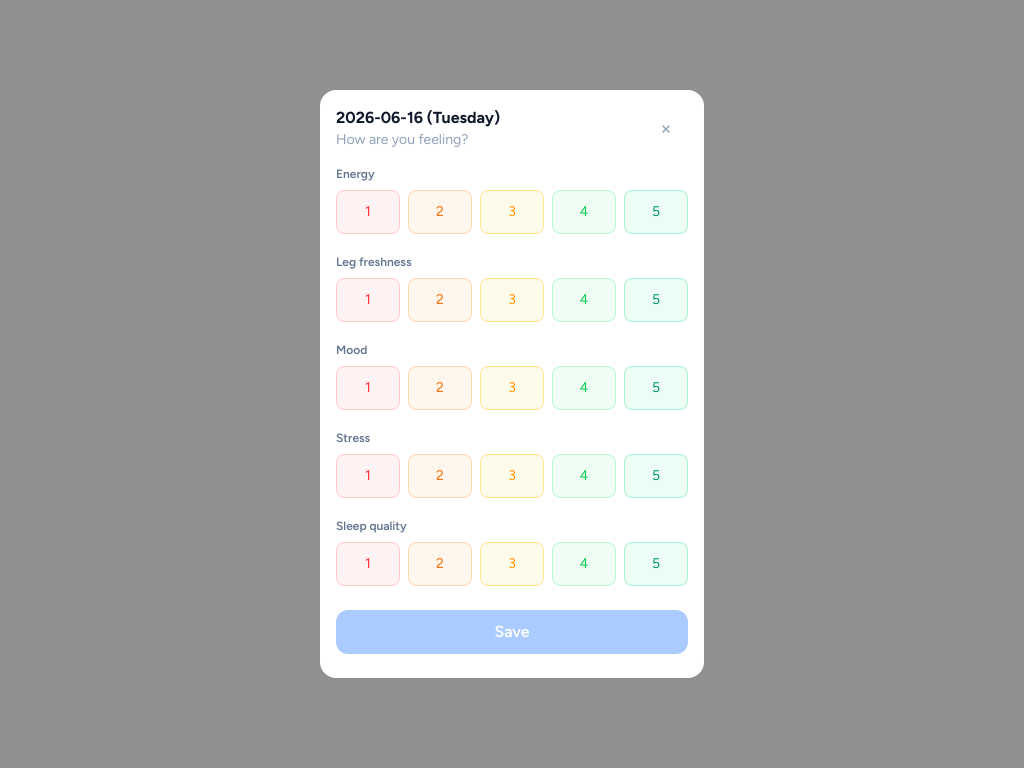
Test: WellnessSheet › Save button enables after selecting a value
Click the button "4" below "Energy": (584, 212) [552,190,616,234]
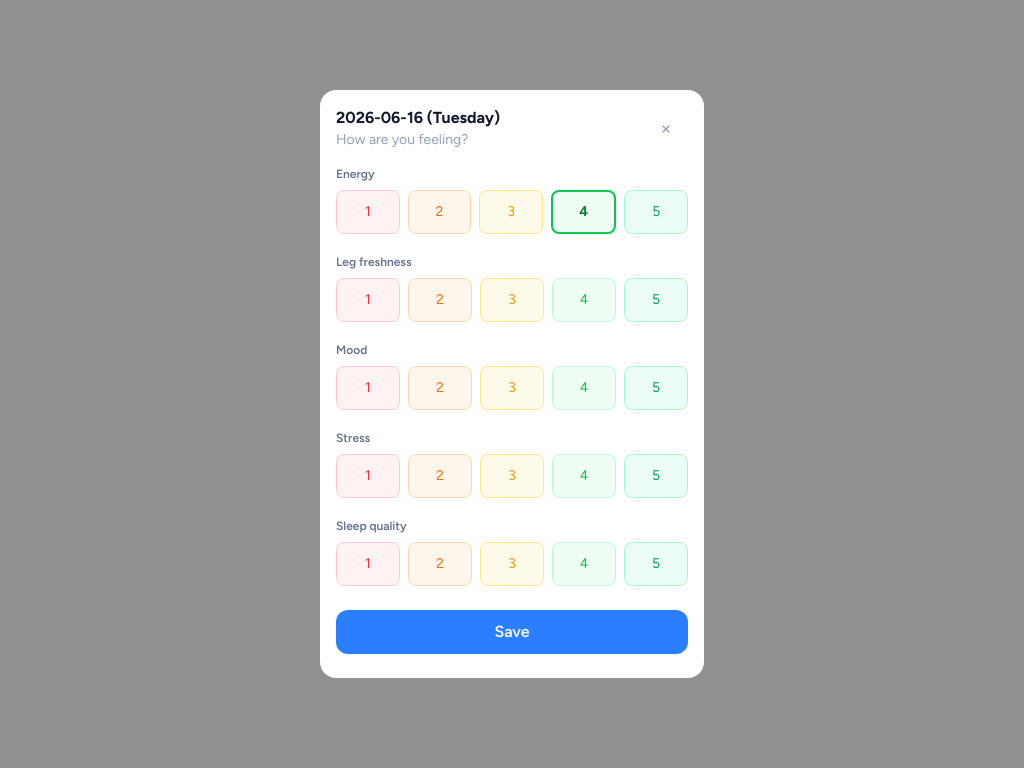
Now the button "Save" is enabled, box [336,610,688,654]
